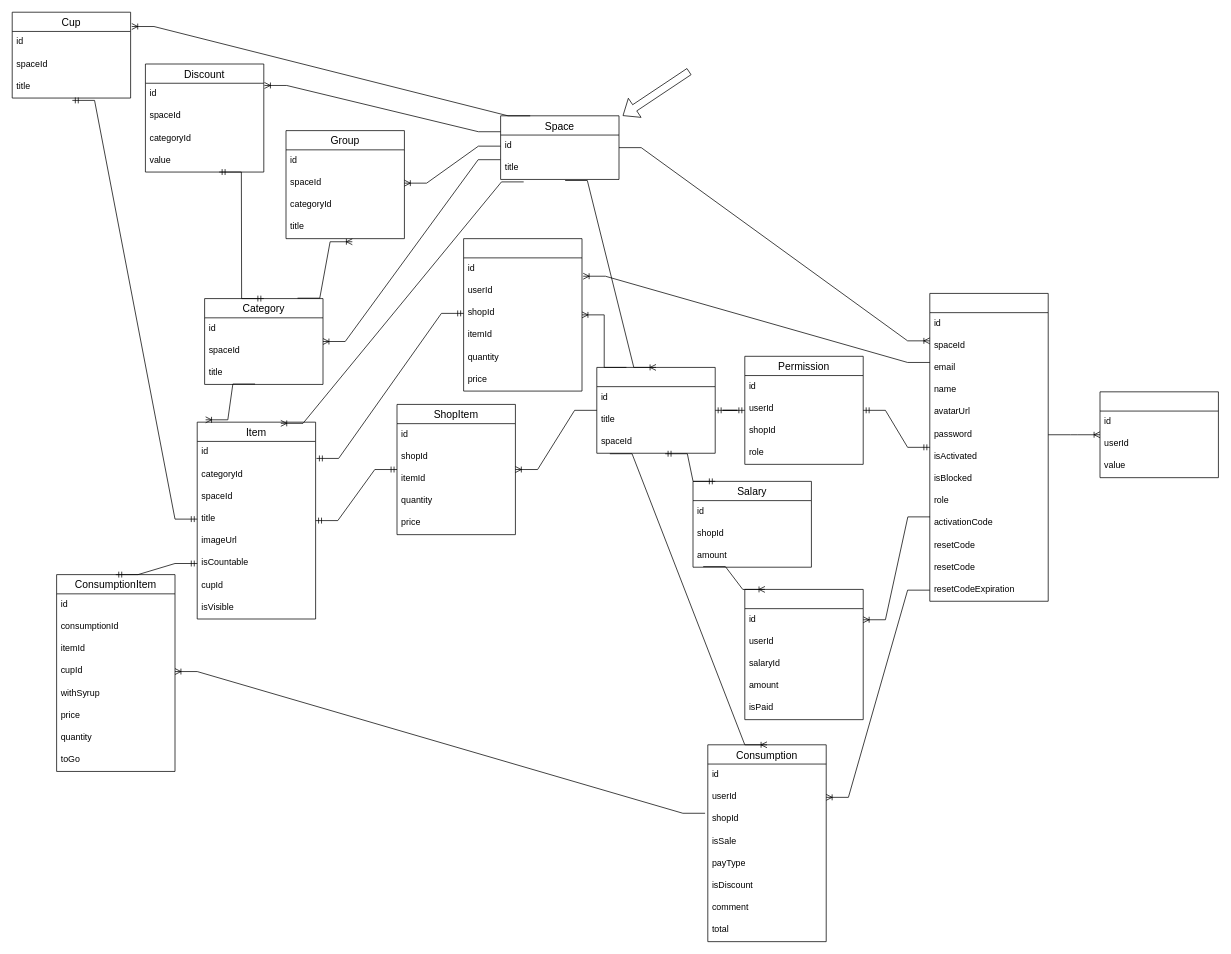
This 1231x954 diagram has some shape labels left out. The box of each missing label's shape, as (x1, y1, x2, y2) in pixels:
Arrival: (463, 238, 582, 391)
Shop: (596, 367, 715, 453)
Token: (1099, 391, 1218, 478)
User: (929, 293, 1048, 601)
UserSalary: (744, 589, 863, 720)
